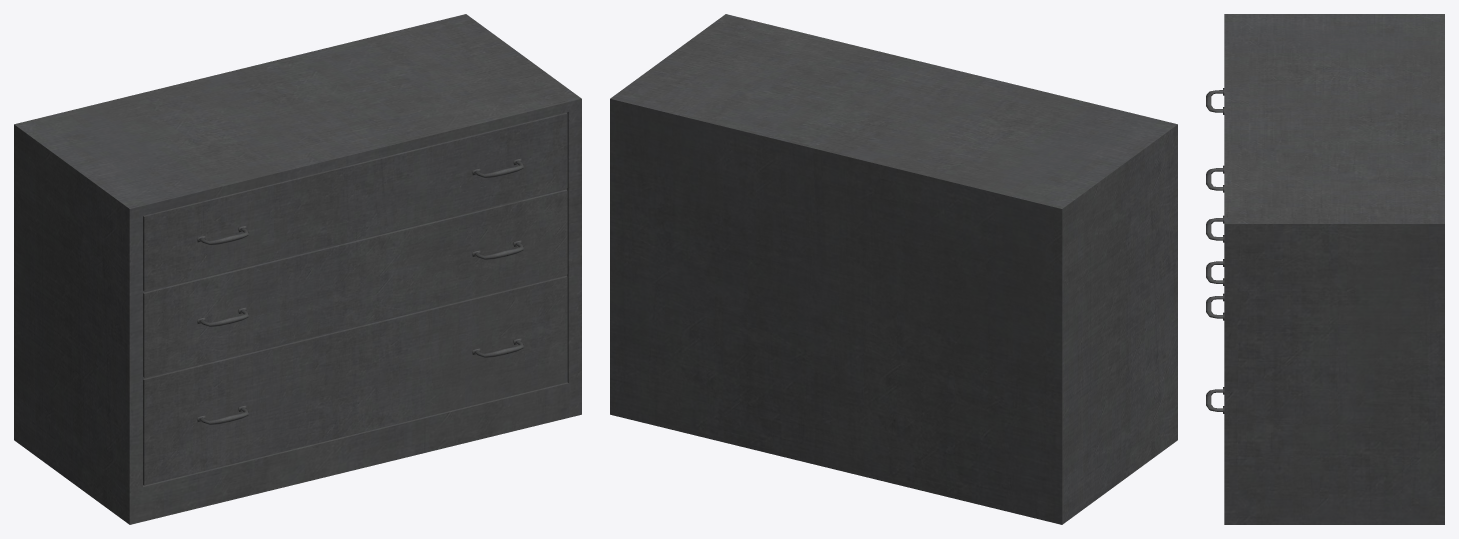
File: stateroom_3drawer.fbx
3 views of the same model, side by side, from view 1: azimuth 30°, elevation 25°; view 2: azimuth 150°, elevation 25°; view 3: azimuth 270°, elevation 25° (orthographic). The views are drawn at different scales.
Parts seen in each view (by area): view 1: polySurface1; view 2: polySurface1; view 3: polySurface1.
Boxes of the visible parts, x1,y1,x2,y2 form: polySurface1: [14, 14, 581, 524]; polySurface1: [610, 14, 1177, 524]; polySurface1: [1224, 14, 1444, 524].
Bounding box in the file's own units: 961 × 642 × 462.
